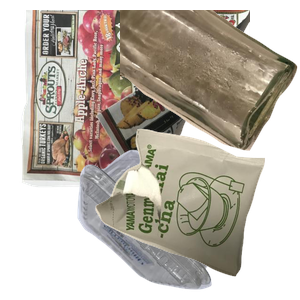glass: (120, 10, 300, 153)
paper: (18, 10, 258, 190)
plastic: (75, 147, 289, 300)
trash: (93, 126, 300, 300)
